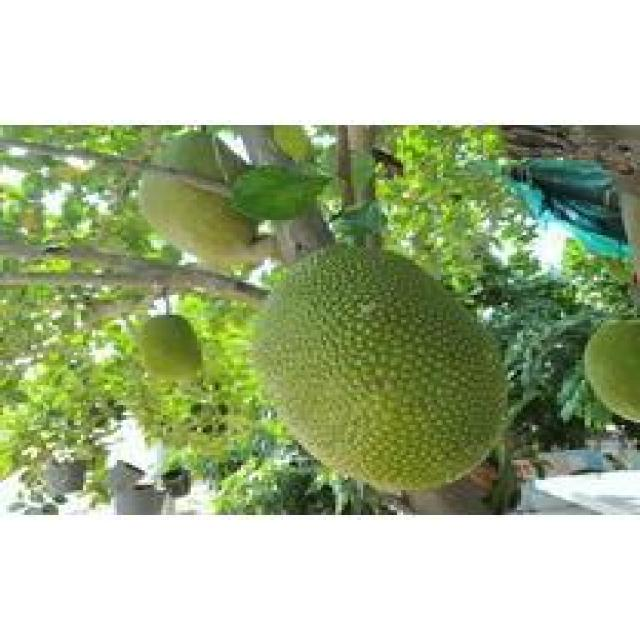Fruit: (234, 225, 517, 505), (572, 305, 640, 447)
